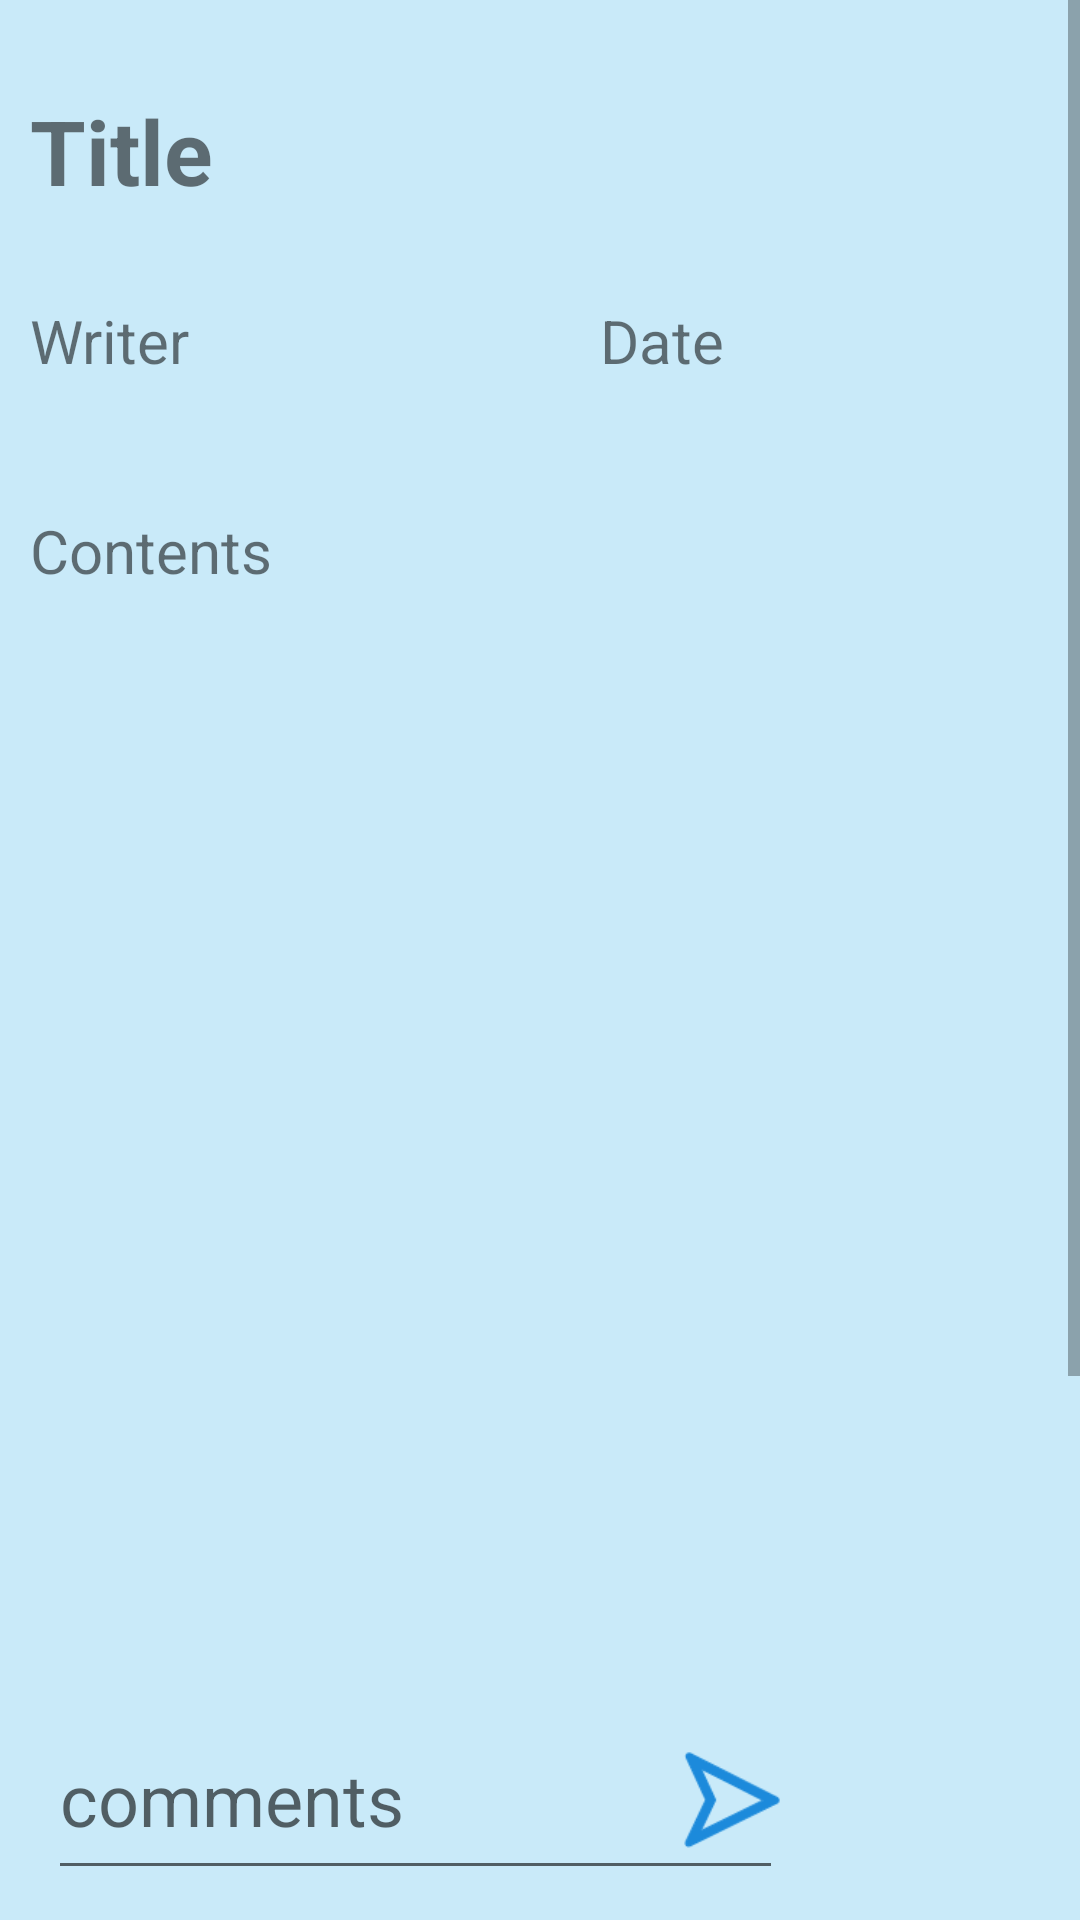

Icon click points for this 1080px×1920px phone screenshot, format (x,y):
send: (732,1800)
